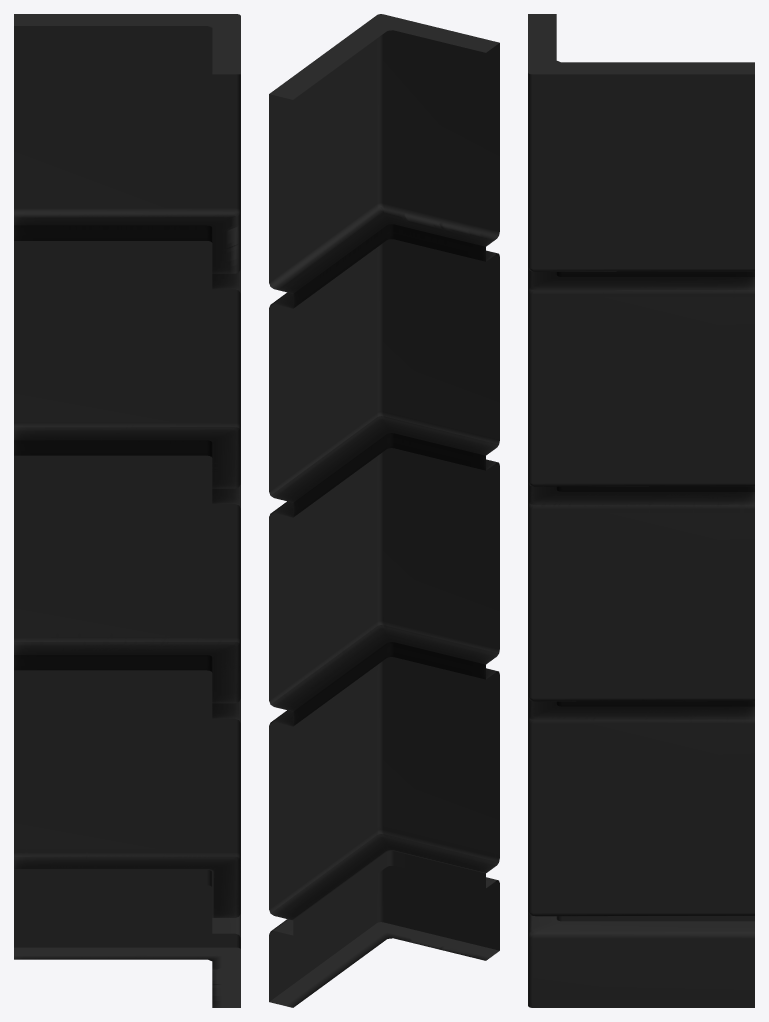
The model's file is COR_ROT_SW.fbx.
3 renders of one model, left to right at view 1: azimuth 90°, elevation 25°; view 2: azimuth 150°, elevation 25°; view 3: azimuth 270°, elevation 25°, orthographic. The views are drawn at different scales.
Visible parts, largest first — view 1: COR_ROT_SW; view 2: COR_ROT_SW; view 3: COR_ROT_SW.
Boxes of the visible parts, <box> form: COR_ROT_SW: <box>14,14,240,1007</box>; COR_ROT_SW: <box>269,14,499,1007</box>; COR_ROT_SW: <box>528,14,754,1007</box>.
Bounding box in the file's own units: 0.625 × 4.5 × 0.991.
